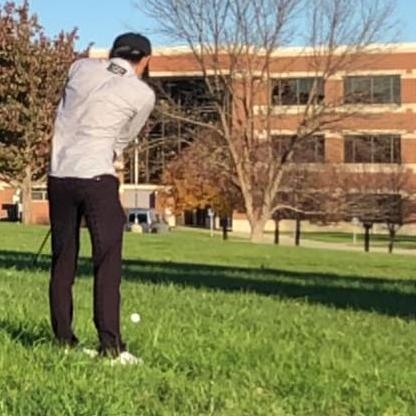golfball: (126, 309, 140, 321)
